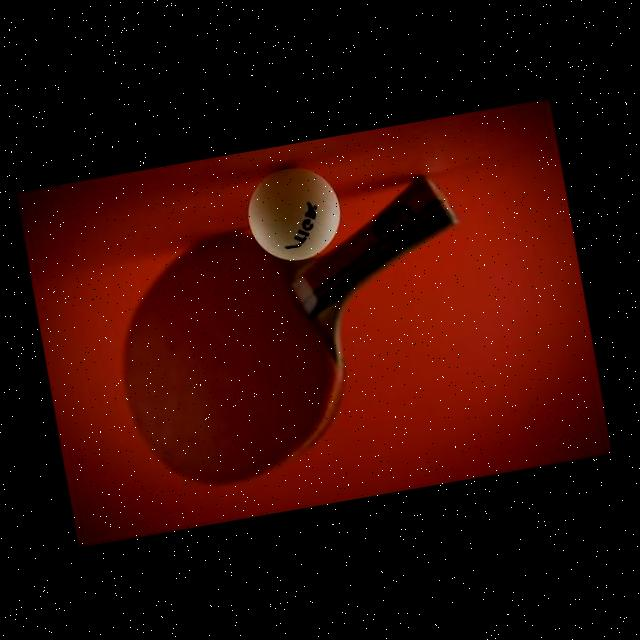ping-pong-ball: (238, 156, 348, 267)
